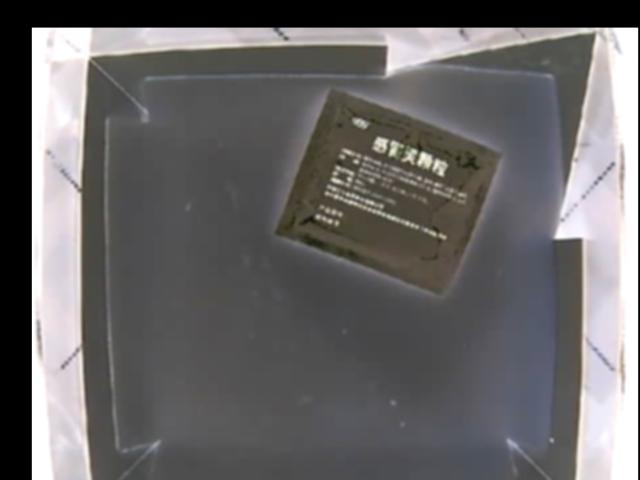Medicine: (277, 86, 505, 292)
